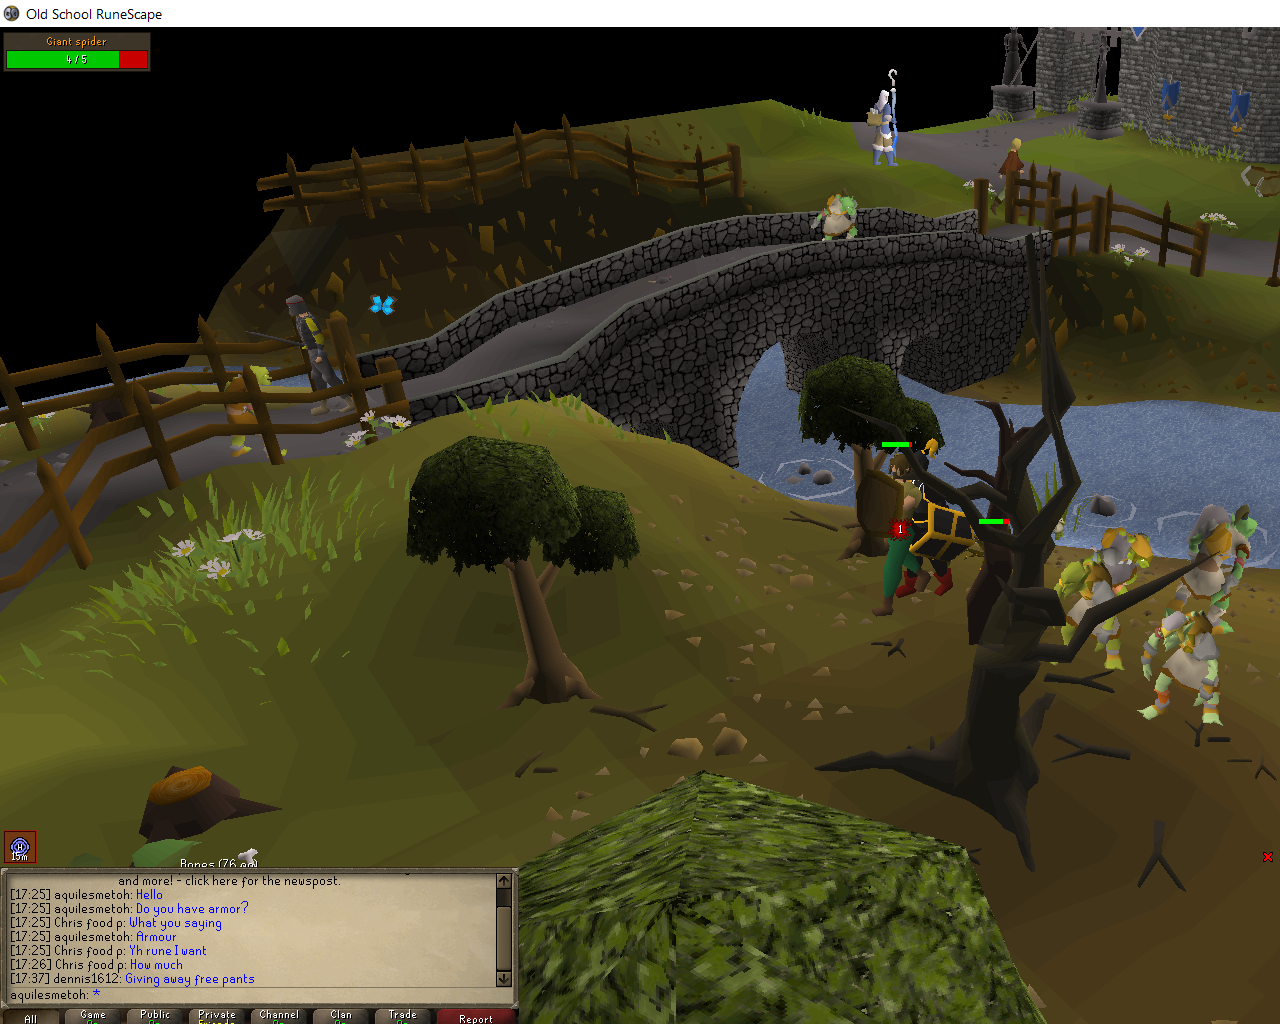Goblin: (1165, 507, 1265, 637), (1140, 610, 1236, 736), (210, 360, 304, 468), (1047, 557, 1126, 682), (807, 189, 863, 250)
